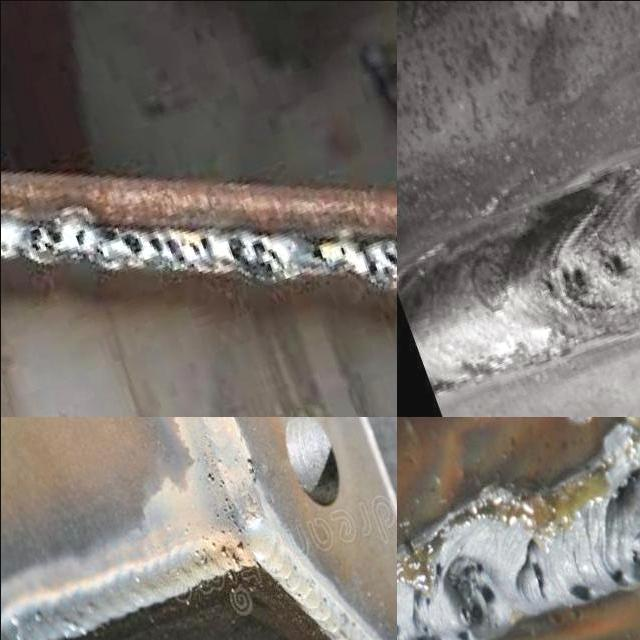defect: (427, 551, 498, 640), (178, 495, 247, 569), (533, 253, 597, 317), (223, 229, 283, 283), (591, 235, 634, 291), (145, 226, 213, 260), (22, 217, 68, 263), (523, 533, 554, 600), (96, 224, 147, 255), (609, 464, 640, 510), (361, 242, 396, 281), (563, 577, 594, 609), (240, 448, 258, 490), (605, 560, 628, 588), (307, 242, 332, 267), (203, 470, 227, 489), (71, 224, 89, 249), (625, 545, 640, 568), (336, 243, 346, 257)
